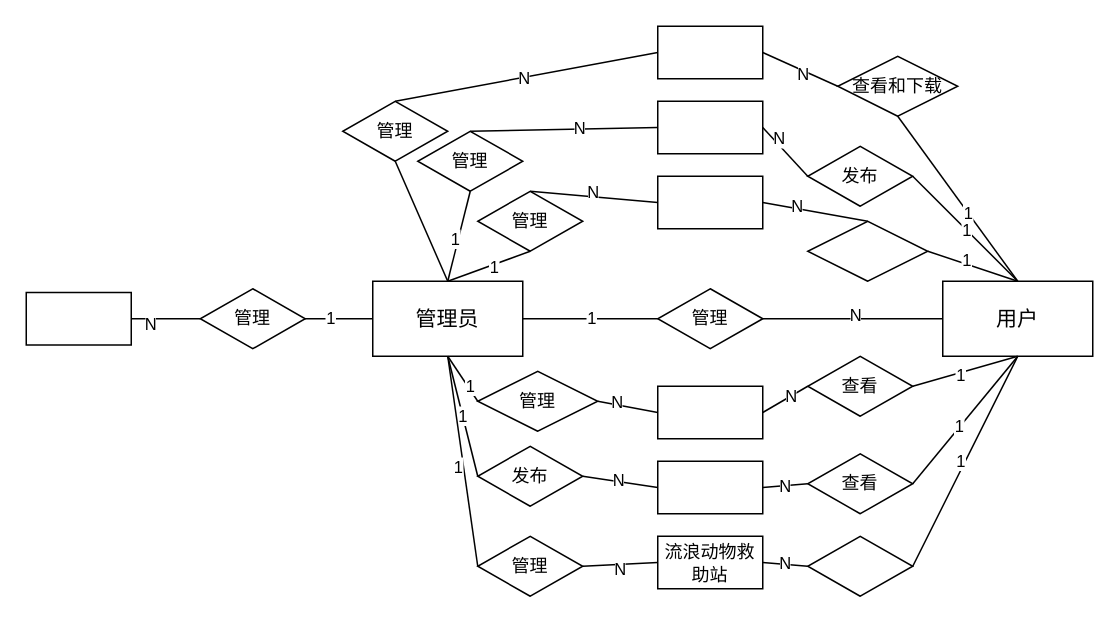
Some shapes in this 1119 by 623 pixel diagram are drawn without their labels. Here are the shapes that lost their labels. From the top down, the centre of each, then its label:
At (709,52): "领养申请".
At (709,127): "发布动物".
At (709,202): "流浪动物".
At (867,250): "领养和咨询".
At (78,318): "动物种类".
At (709,412): "咨询信息".
At (709,487): "通知信息".
At (859,565): "捐赠".
